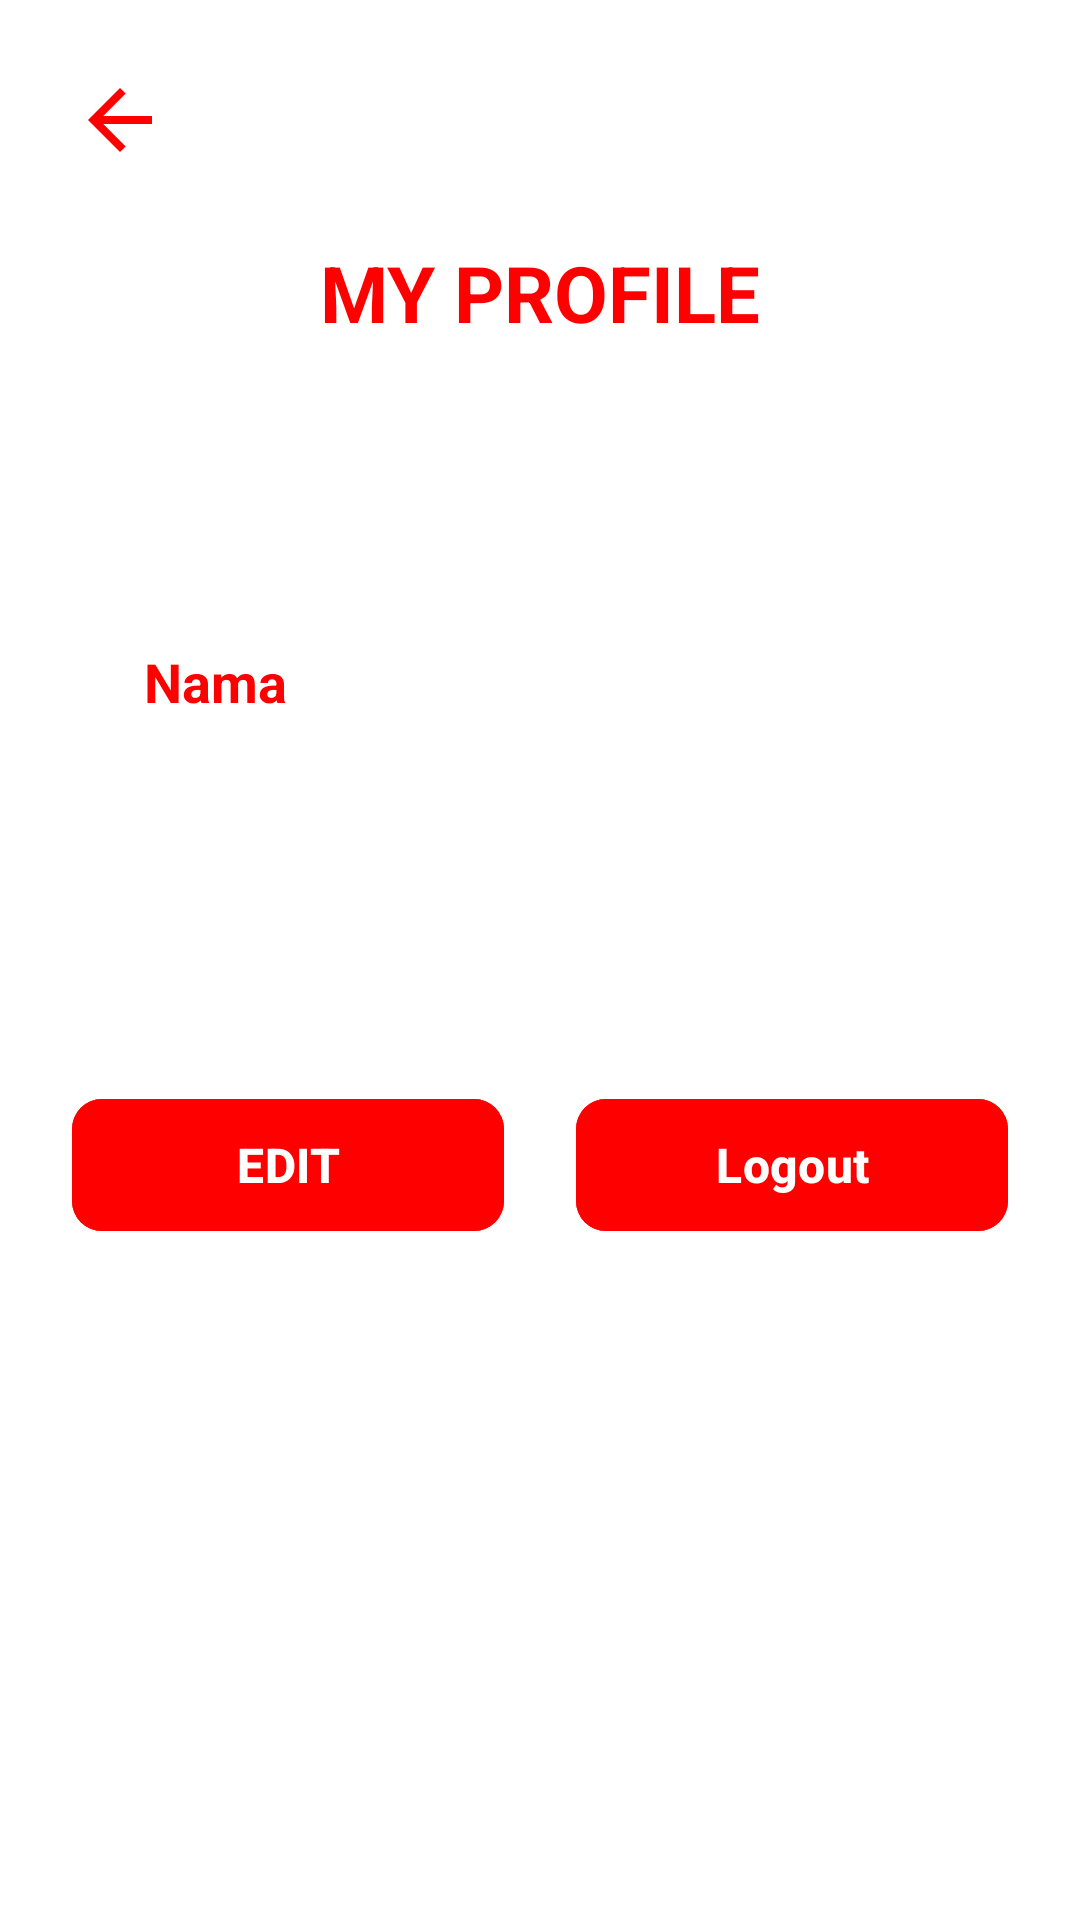

Where icons sit on this 1080w x 1920h app screen, as (x1, y1, x2, y2):
back: (88, 88, 152, 152)
